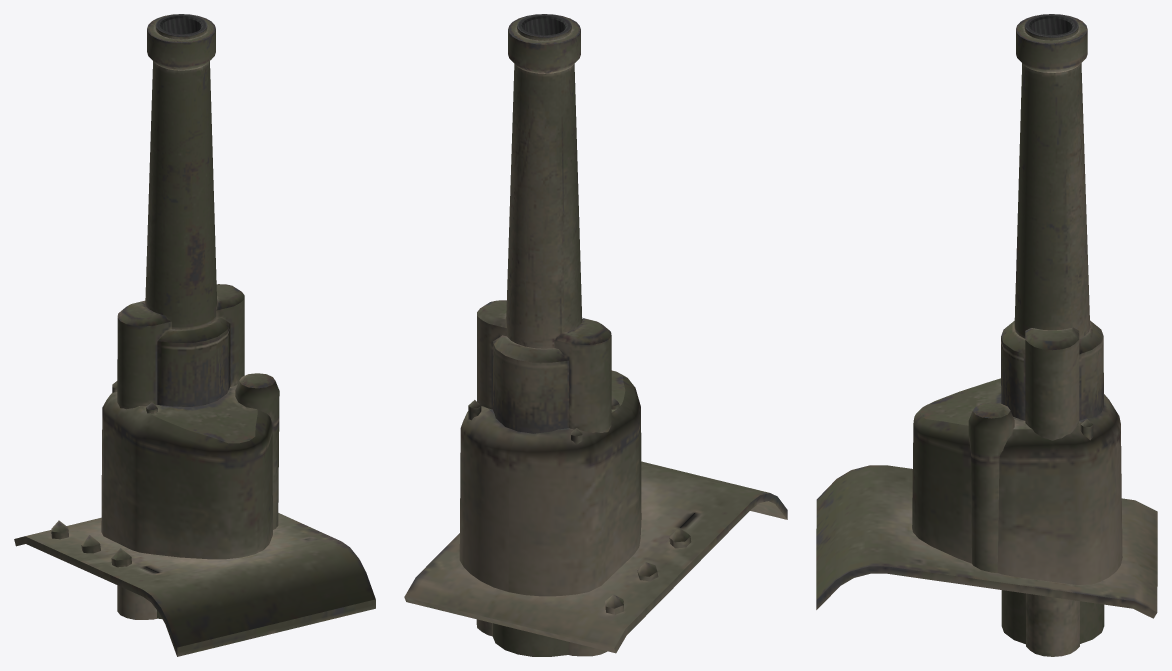
File: Gun_01.glb
3 views of the same model, side by side, from view 1: azimuth 30°, elevation 25°; view 2: azimuth 150°, elevation 25°; view 3: azimuth 270°, elevation 25° (orthographic). The views are drawn at different scales.
Visible parts, largest first — view 1: set_0_group_0; view 2: set_0_group_0; view 3: set_0_group_0.
Part boxes in pixels (x1,y1,x2,y2): set_0_group_0: (14, 14, 375, 656); set_0_group_0: (404, 14, 787, 656); set_0_group_0: (816, 14, 1157, 656).
Bounding box in the file's own units: 0.4379 × 1.21 × 0.624.
Materials: 1 (1 with a texture image).
